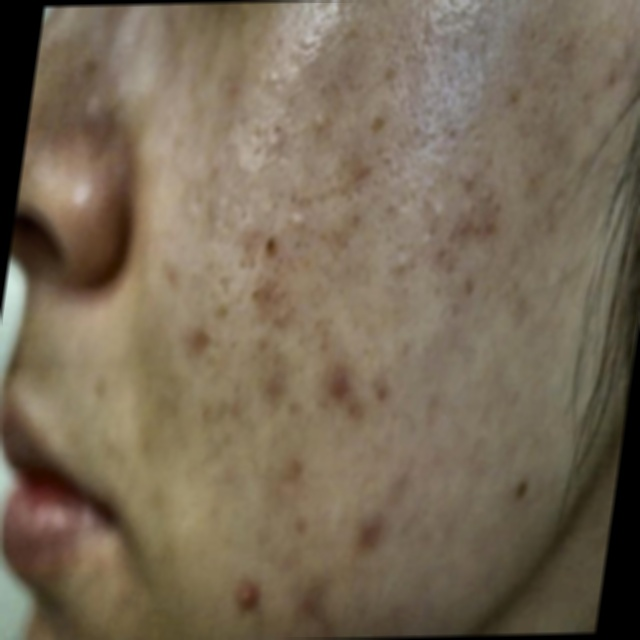comedone: (306, 359, 375, 429), (218, 560, 278, 639), (347, 491, 405, 560), (280, 570, 339, 635)
